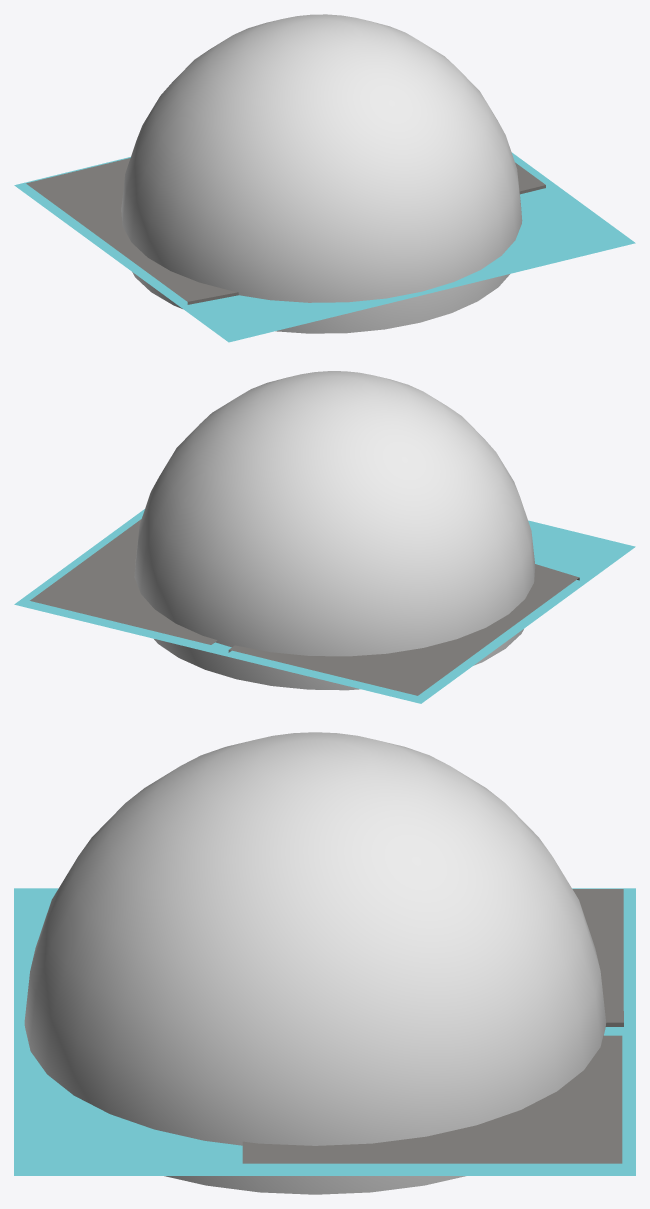
File: door_sphere.fbx
The picture shows the model from 3 angles, top to bottom: view 1: azimuth 30°, elevation 25°; view 2: azimuth 150°, elevation 25°; view 3: azimuth 270°, elevation 25°; orthographic projection. The views are drawn at different scales.
Visible parts, largest first — view 1: Sphere, water, floor1, floor2; view 2: Sphere, water, floor1, floor2; view 3: Sphere, water, floor2, floor1.
Boxes of the visible parts, left/top/right/bottom form: Sphere: left=121, top=14, right=522, bottom=333; water: left=14, top=152, right=635, bottom=342; floor1: left=26, top=158, right=238, bottom=304; floor2: left=515, top=162, right=545, bottom=194; Sphere: left=134, top=371, right=535, bottom=690; water: left=14, top=509, right=635, bottom=703; floor1: left=228, top=564, right=579, bottom=695; floor2: left=30, top=519, right=217, bottom=644; Sphere: left=24, top=732, right=606, bottom=1194; water: left=14, top=888, right=635, bottom=1175; floor2: left=242, top=1035, right=622, bottom=1163; floor1: left=572, top=889, right=623, bottom=1026.
Size of the model in its own units: 11685 by 5967 by 10678.
